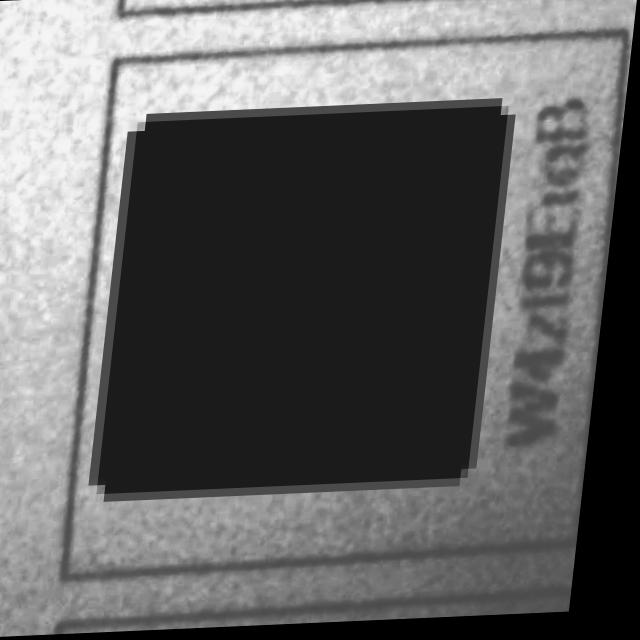qr_code: (108, 110, 512, 495)
